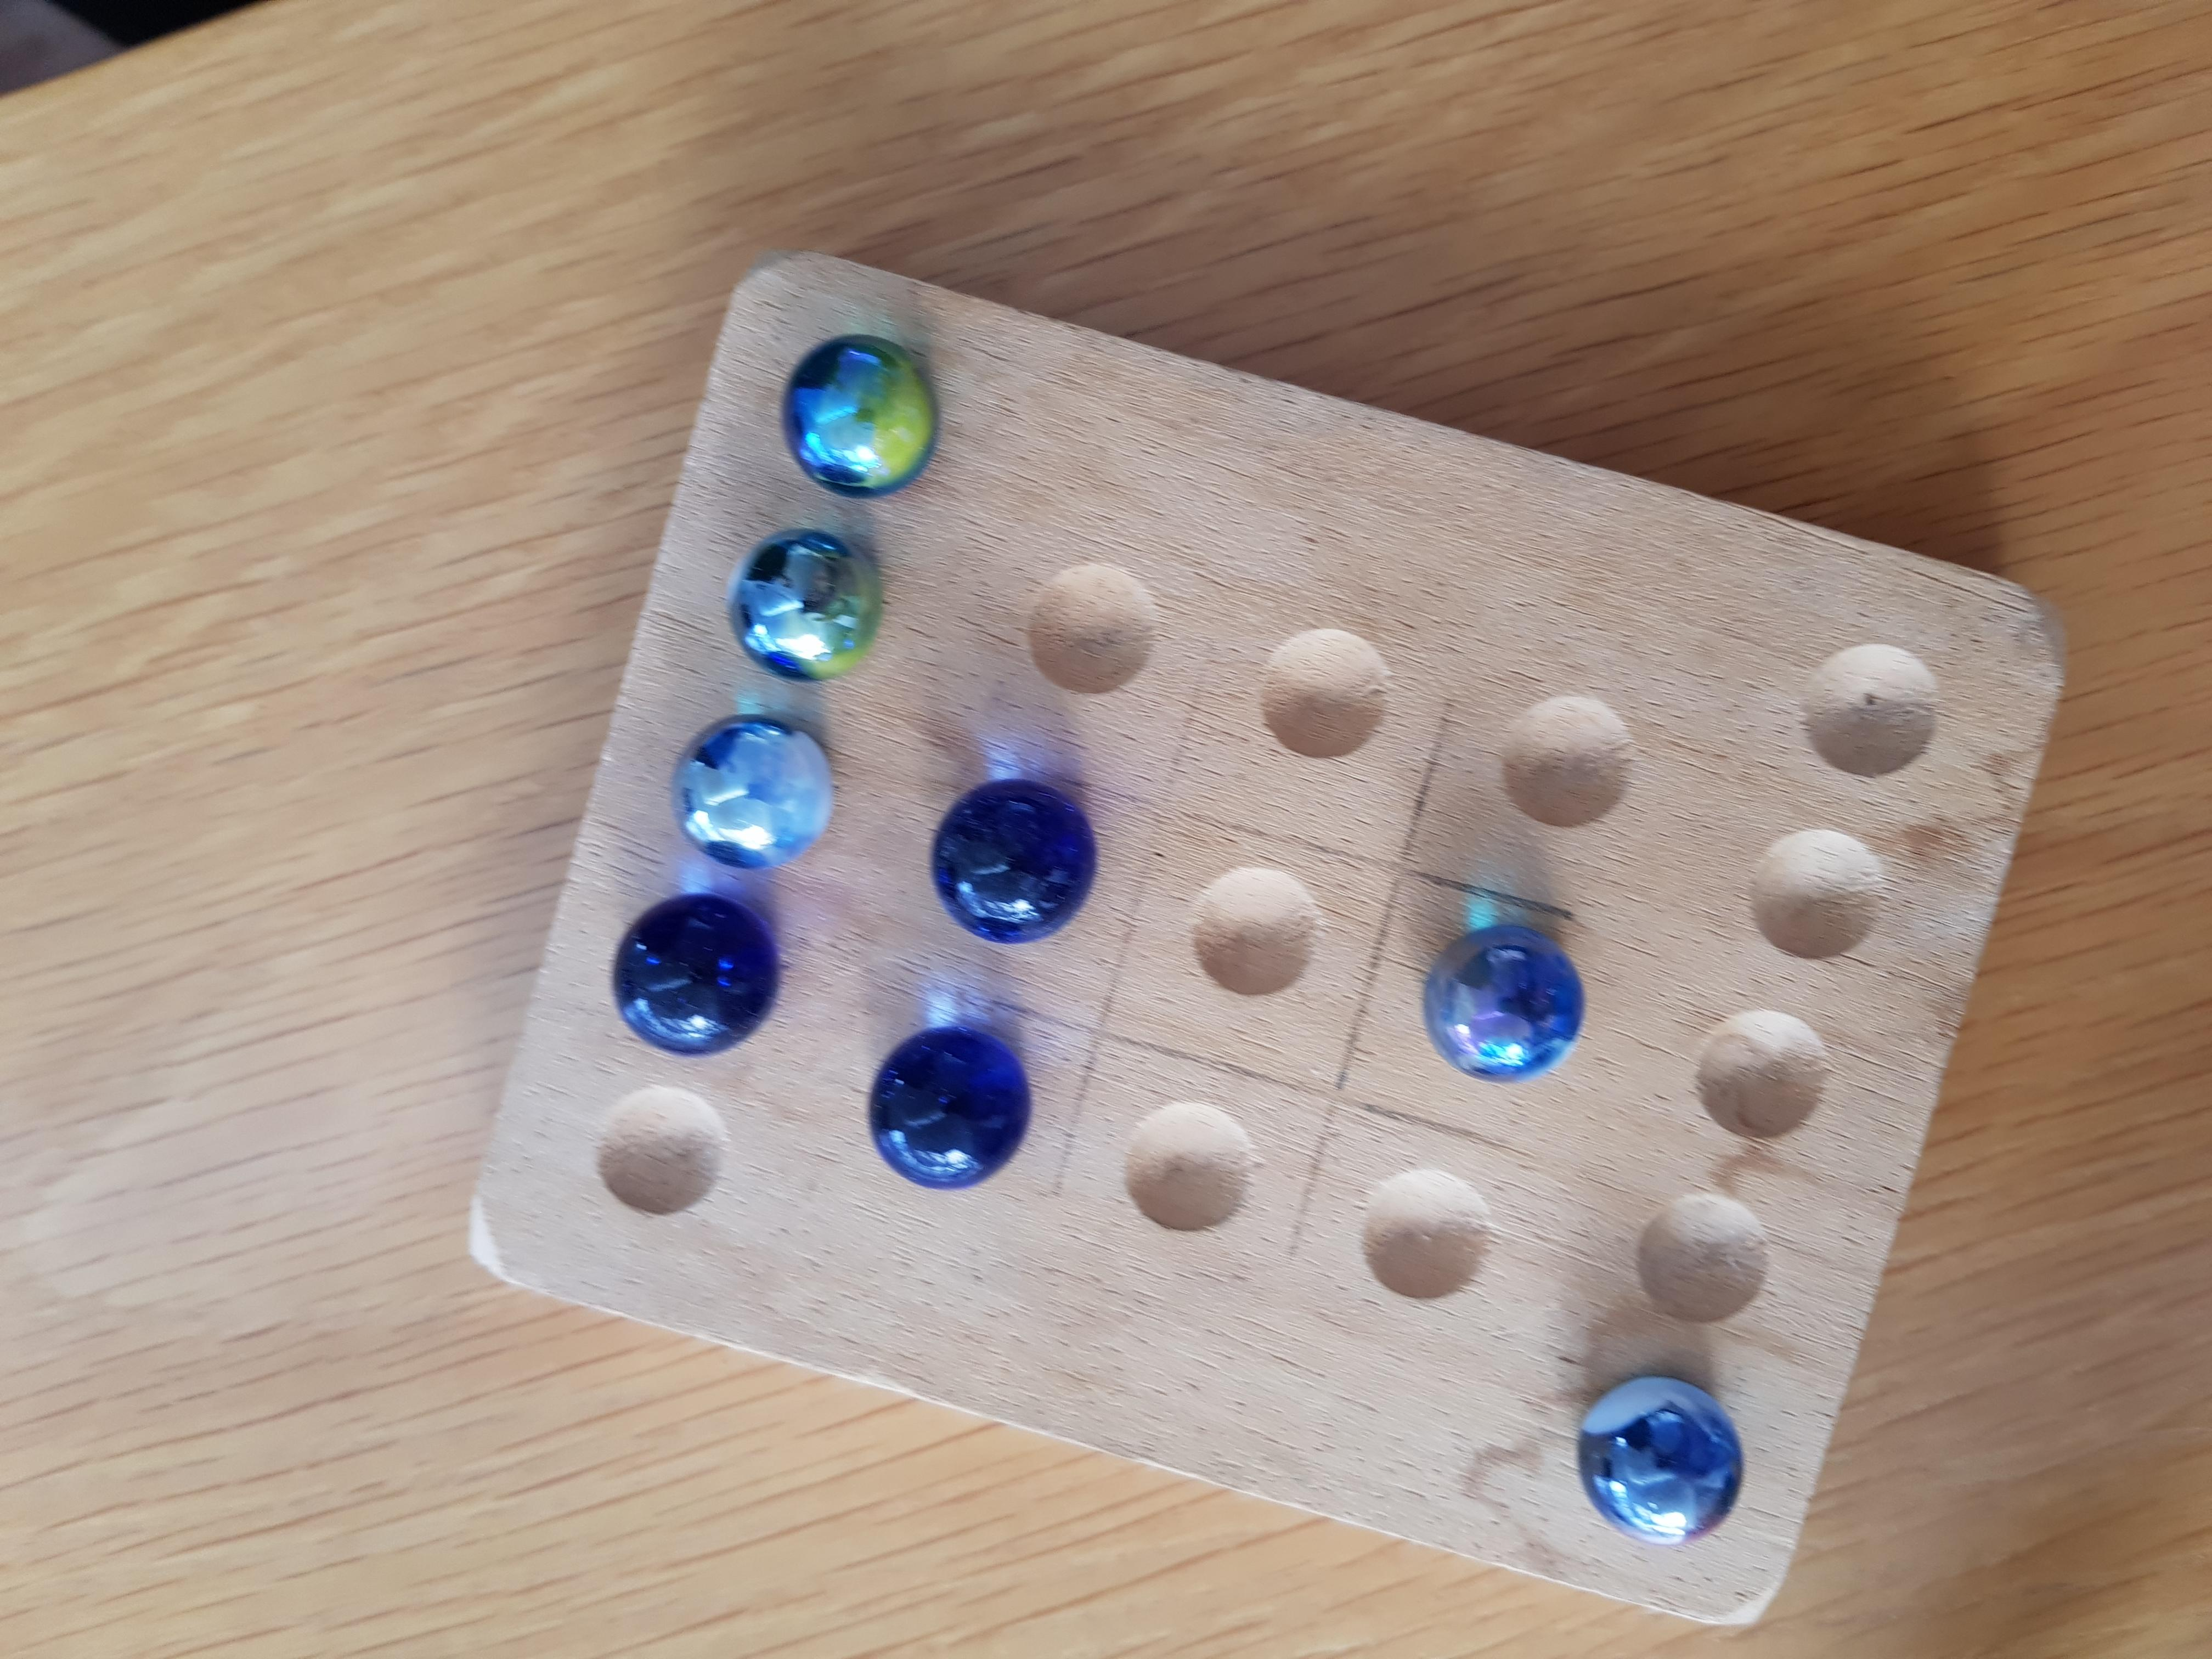Sphere: (928, 777, 1097, 946), (864, 1021, 1031, 1192), (1576, 1377, 1743, 1547), (610, 896, 782, 1056), (779, 331, 941, 498), (669, 713, 836, 871), (1421, 924, 1585, 1082), (725, 528, 881, 685)
